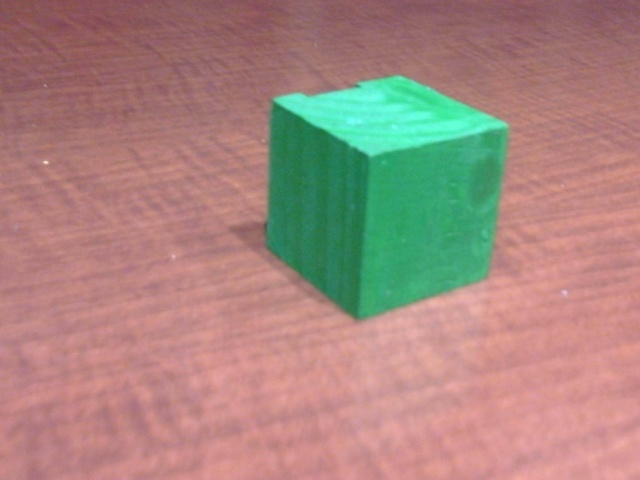GreenBlock: (265, 76, 508, 323)
